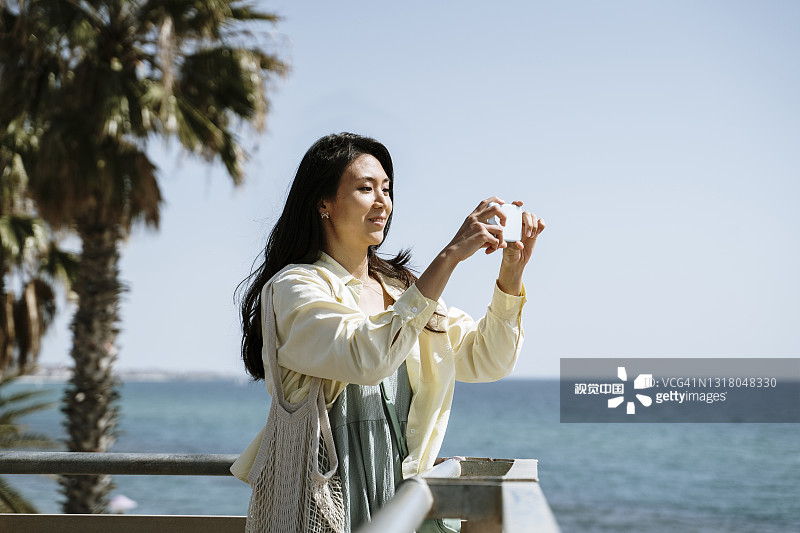taking photos: (427, 184, 552, 288)
